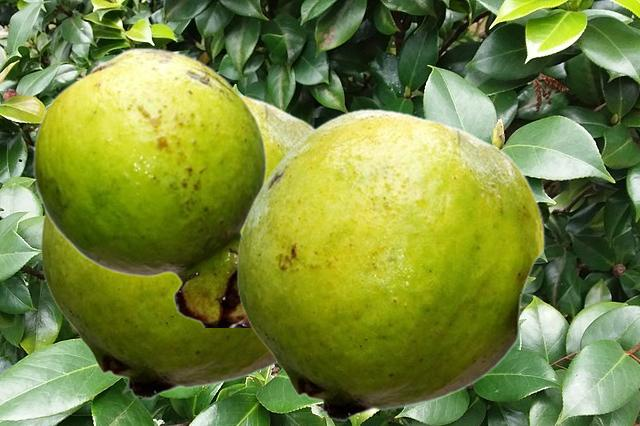guava: (236, 108, 544, 421), (40, 91, 316, 399), (32, 47, 267, 326)
